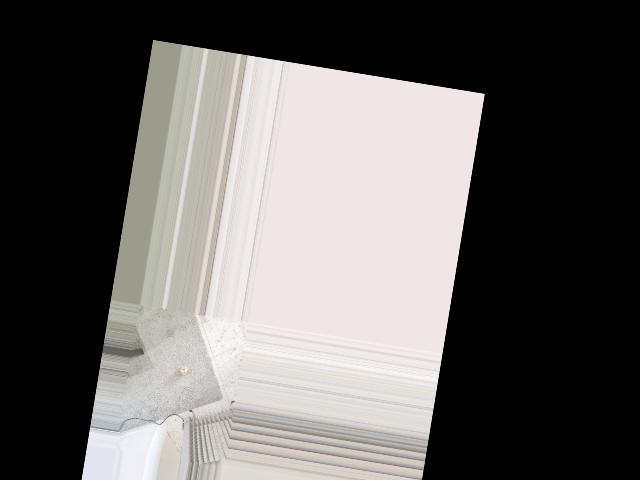onion: (178, 364, 189, 376)
